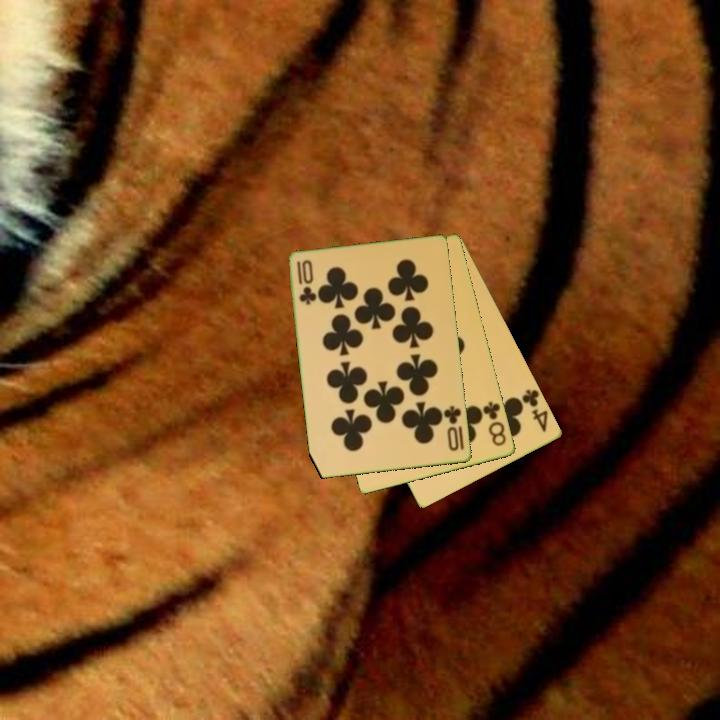10c: (440, 402, 464, 454), (294, 258, 318, 308)
4c: (519, 386, 551, 435)
8c: (480, 398, 509, 449)
